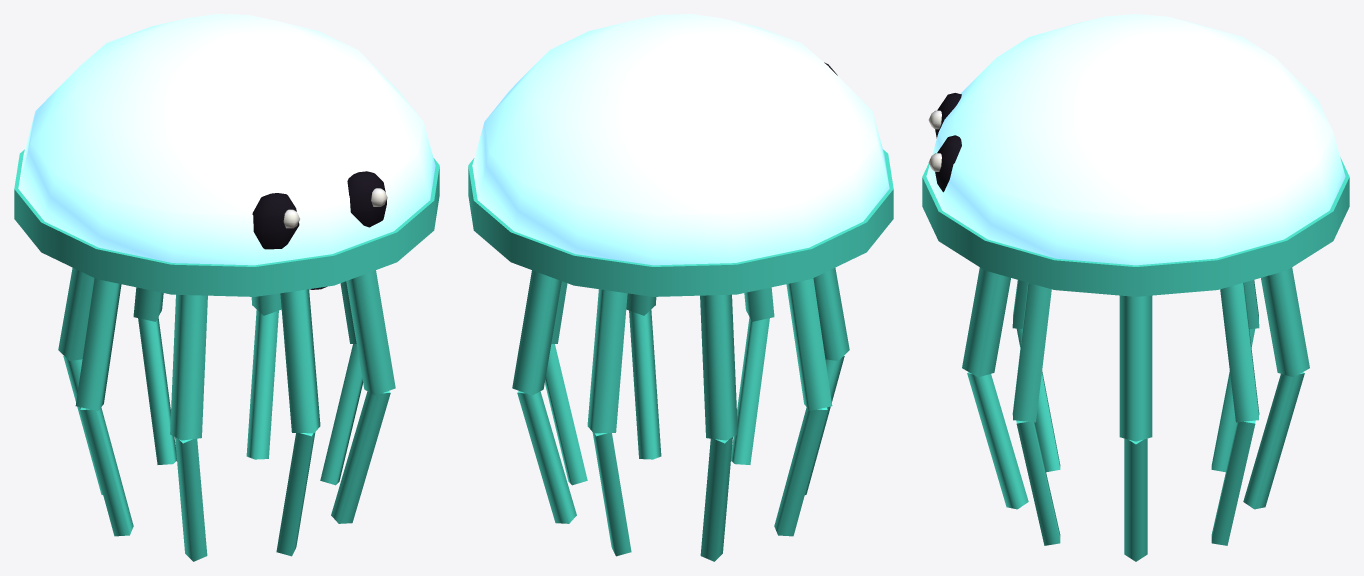
Rendered from monster_moon_jelly.glb.
3 views of the same model, side by side, from view 1: azimuth 30°, elevation 25°; view 2: azimuth 150°, elevation 25°; view 3: azimuth 270°, elevation 25° (orthographic).
Visible parts, largest first — view 1: body_t0_bob4_glow_blue, tail_t0_palette, body_t0_bob4_palette; view 2: body_t0_bob4_glow_blue, tail_t0_palette, body_t0_bob4_palette; view 3: body_t0_bob4_glow_blue, tail_t0_palette, body_t0_bob4_palette.
Boxes of the visible parts, box(x1,y1,x2,y2) form: body_t0_bob4_glow_blue: box(18, 14, 435, 265); tail_t0_palette: box(58, 268, 395, 561); body_t0_bob4_palette: box(14, 149, 439, 296); body_t0_bob4_glow_blue: box(472, 14, 889, 265); tail_t0_palette: box(512, 268, 849, 561); body_t0_bob4_palette: box(468, 62, 893, 296); body_t0_bob4_glow_blue: box(926, 14, 1345, 265); tail_t0_palette: box(962, 267, 1309, 561); body_t0_bob4_palette: box(922, 93, 1349, 296).
Size of the model in its own units: 0.26 by 0.3158 by 0.26.
